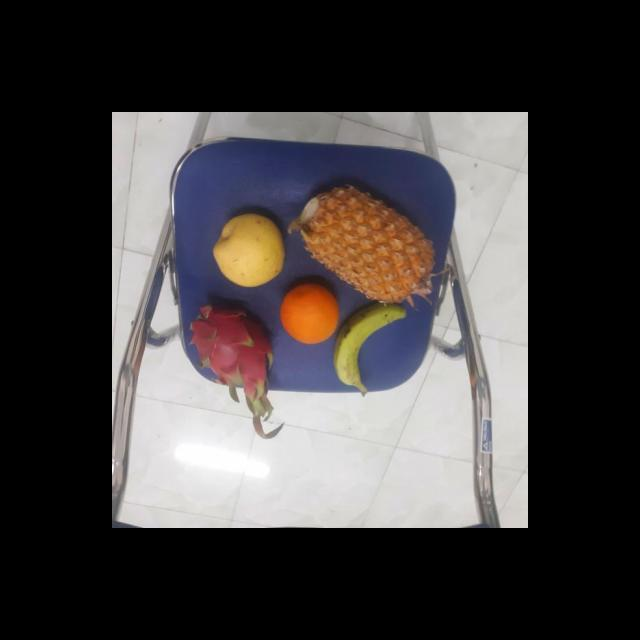banana: (334, 302, 414, 390)
orange: (278, 284, 342, 348)
pear: (210, 216, 288, 288)
pineapple: (299, 184, 436, 304)
pitaya: (188, 297, 280, 393)
